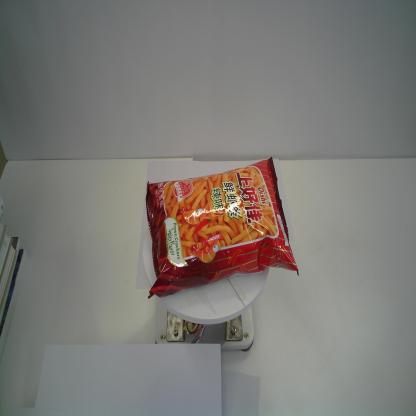Puffed Food: (145, 155, 300, 300)
